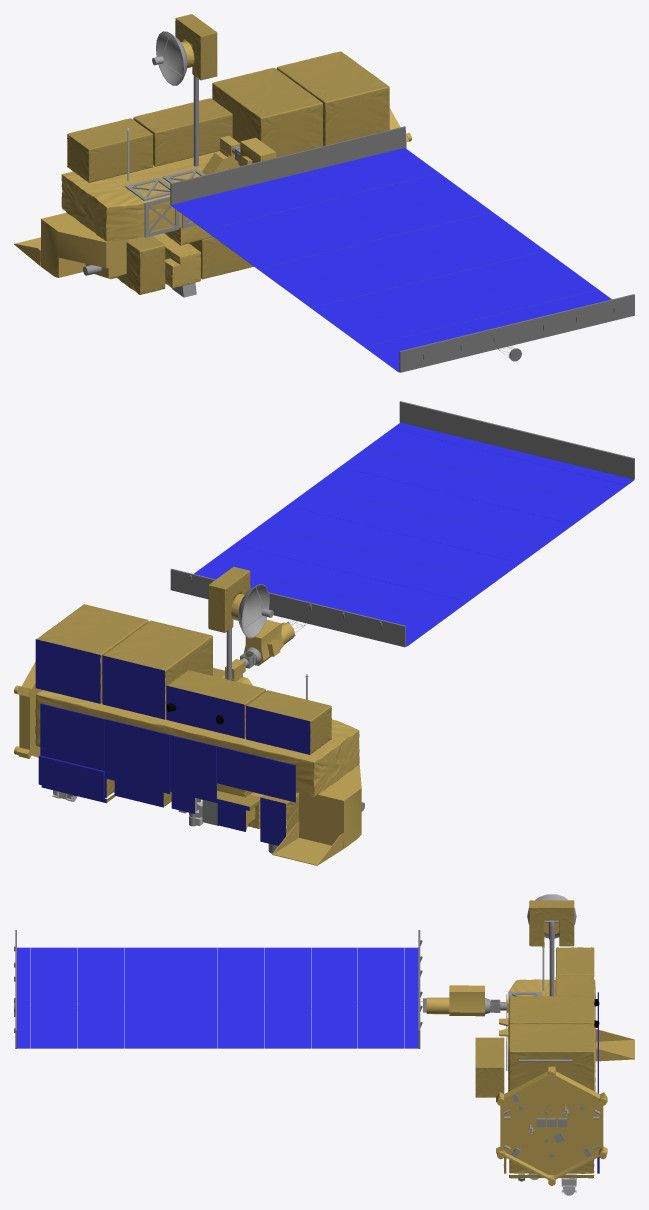
File: terra2.glb
3 renders of one model, top to bottom at view 1: azimuth 30°, elevation 25°; view 2: azimuth 150°, elevation 25°; view 3: azimuth 270°, elevation 25°, orthographic. The views are drawn at different scales.
Visible parts, largest first — view 1: Terra_vFINAL [Layer17]_18, Terra_vFINAL [Layer16]_17, Terra_vFINAL [Layer1]_2, Terra_vFINAL [Layer13]_14, Terra_vFINAL [Layer18]_19, Terra_vFINAL [Layer2]_3, Terra_vFINAL [Layer11]_12, Terra_vFINAL [Layer12]_13, Terra_vFINAL [Layer19]_20, Terra_vFINAL [Layer3]_4, Terra_vFINAL [Layer9]_10, Terra_vFINAL [Layer4]_5 (+2 smaller); view 2: Terra_vFINAL [Layer17]_18, Terra_vFINAL [Layer15]_16, Terra_vFINAL [Layer16]_17, Terra_vFINAL [Layer18]_19, Terra_vFINAL [Layer1]_2, Terra_vFINAL [Layer13]_14, Terra_vFINAL [Layer2]_3, Terra_vFINAL [Layer11]_12, Terra_vFINAL [Layer9]_10, Terra_vFINAL [Layer12]_13, Terra_vFINAL [Layer20]_21, Terra_vFINAL [Layer19]_20; view 3: Terra_vFINAL [Layer17]_18, Terra_vFINAL [Layer18]_19, Terra_vFINAL [Layer2]_3, Terra_vFINAL [Layer13]_14, Terra_vFINAL [Layer19]_20, Terra_vFINAL [Layer10]_11, Terra_vFINAL [Layer9]_10, Terra_vFINAL [Layer16]_17, Terra_vFINAL [Layer11]_12, Terra_vFINAL [Layer1]_2, Terra_vFINAL [Layer12]_13, Terra_vFINAL [Layer21]_22.
Boxes of the visible parts, x1,y1,x2,y2 form: Terra_vFINAL [Layer17]_18: [171, 148, 611, 371]; Terra_vFINAL [Layer16]_17: [170, 126, 634, 372]; Terra_vFINAL [Layer1]_2: [61, 151, 219, 245]; Terra_vFINAL [Layer13]_14: [212, 67, 322, 157]; Terra_vFINAL [Layer18]_19: [14, 41, 411, 279]; Terra_vFINAL [Layer2]_3: [276, 51, 389, 145]; Terra_vFINAL [Layer11]_12: [67, 118, 152, 182]; Terra_vFINAL [Layer12]_13: [133, 98, 232, 166]; Terra_vFINAL [Layer19]_20: [83, 75, 240, 297]; Terra_vFINAL [Layer3]_4: [117, 236, 165, 294]; Terra_vFINAL [Layer9]_10: [175, 14, 217, 80]; Terra_vFINAL [Layer4]_5: [153, 233, 200, 288]; Terra_vFINAL [Layer17]_18: [194, 422, 634, 646]; Terra_vFINAL [Layer15]_16: [35, 639, 310, 845]; Terra_vFINAL [Layer16]_17: [170, 401, 634, 647]; Terra_vFINAL [Layer18]_19: [14, 593, 361, 865]; Terra_vFINAL [Layer1]_2: [35, 673, 359, 797]; Terra_vFINAL [Layer13]_14: [103, 620, 212, 718]; Terra_vFINAL [Layer2]_3: [37, 604, 148, 702]; Terra_vFINAL [Layer11]_12: [247, 690, 331, 754]; Terra_vFINAL [Layer9]_10: [208, 566, 250, 632]; Terra_vFINAL [Layer12]_13: [167, 670, 265, 737]; Terra_vFINAL [Layer20]_21: [238, 584, 273, 638]; Terra_vFINAL [Layer19]_20: [69, 628, 364, 853]; Terra_vFINAL [Layer17]_18: [17, 947, 418, 1048]; Terra_vFINAL [Layer18]_19: [426, 920, 634, 1185]; Terra_vFINAL [Layer2]_3: [509, 1024, 594, 1091]; Terra_vFINAL [Layer13]_14: [509, 996, 594, 1025]; Terra_vFINAL [Layer19]_20: [485, 920, 600, 1181]; Terra_vFINAL [Layer10]_11: [475, 1037, 504, 1097]; Terra_vFINAL [Layer9]_10: [529, 900, 574, 946]; Terra_vFINAL [Layer16]_17: [14, 930, 426, 1048]; Terra_vFINAL [Layer11]_12: [556, 947, 594, 995]; Terra_vFINAL [Layer1]_2: [508, 979, 595, 1091]; Terra_vFINAL [Layer12]_13: [555, 975, 593, 996]; Terra_vFINAL [Layer21]_22: [527, 946, 576, 1195].
Size of the model in its own units: 13622 by 10277 by 26054.
